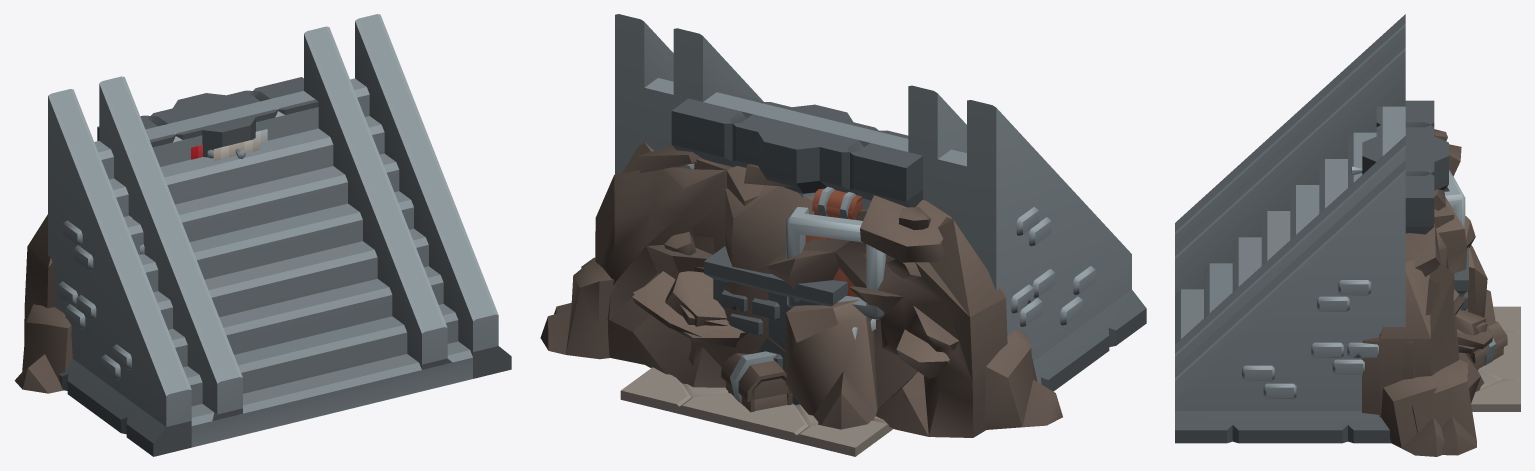
The model's file is ruines.glb.
3 views of the same model, side by side, from view 1: azimuth 30°, elevation 25°; view 2: azimuth 150°, elevation 25°; view 3: azimuth 270°, elevation 25° (orthographic). The views are drawn at different scales.
Parts seen in each view (by area): view 1: stairs_wide, stairs, rubble_large, wall_arched, pillar, pillar_decorated; view 2: rubble_large, stairs_wide, rubble_half, stairs, box_stacked, floor_tile_large, floor_foundation_allsides, wall_arched, wall_broken, pillar, wall_half; view 3: stairs_wide, stairs, rubble_half, rubble_large, wall_arched, floor_tile_large, box_stacked, pillar_decorated, pillar, wall_broken, floor_foundation_allsides.
Boxes of the visible parts, left/top/right/bottom form: stairs_wide: left=48, top=14, right=511, bottom=456; stairs: left=99, top=26, right=452, bottom=420; rubble_large: left=14, top=214, right=72, bottom=393; wall_arched: left=97, top=77, right=318, bottom=147; pillar: left=173, top=93, right=255, bottom=157; pillar_decorated: left=173, top=99, right=259, bottom=161; rubble_large: left=554, top=164, right=1062, bottom=437; stairs_wide: left=615, top=14, right=1146, bottom=391; rubble_half: left=540, top=142, right=763, bottom=387; stairs: left=673, top=28, right=966, bottom=159; box_stacked: left=721, top=186, right=885, bottom=412; floor_tile_large: left=620, top=367, right=893, bottom=456; floor_foundation_allsides: left=704, top=246, right=847, bottom=405; wall_arched: left=672, top=89, right=922, bottom=207; wall_broken: left=724, top=102, right=910, bottom=209; pillar: left=758, top=104, right=853, bottom=191; wall_half: left=671, top=111, right=757, bottom=167; stairs_wide: left=1175, top=14, right=1405, bottom=443; stairs: left=1175, top=38, right=1405, bottom=368; rubble_half: left=1379, top=206, right=1492, bottom=455; rubble_large: left=1362, top=129, right=1495, bottom=456; wall_arched: left=1376, top=100, right=1434, bottom=234; floor_tile_large: left=1471, top=306, right=1520, bottom=411; box_stacked: left=1444, top=170, right=1507, bottom=370; pillar_decorated: left=1350, top=136, right=1448, bottom=190; pillar: left=1362, top=143, right=1448, bottom=190; wall_broken: left=1376, top=146, right=1434, bottom=232; floor_foundation_allsides: left=1454, top=247, right=1468, bottom=311.
Bounding box in the file's own units: 8.13 × 5.89 × 6.
Materials: 1 (1 with a texture image).
